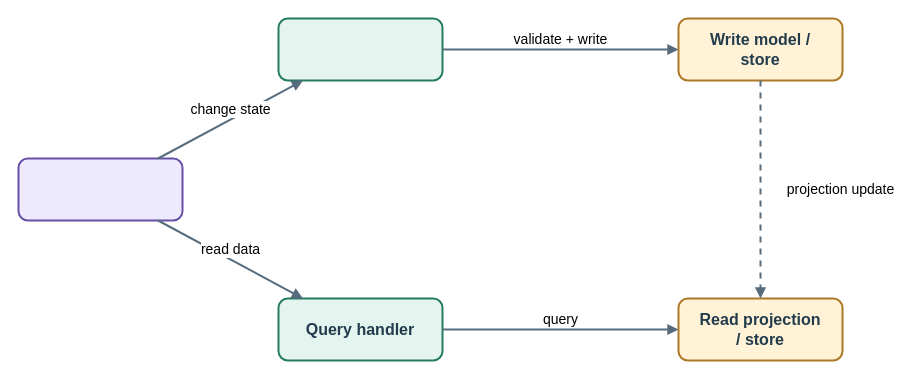
The diagram is 911 pixels wide and 378 high, and some of its shapes have lost their labels. Each missing label, with the box of its shape:
Command handler: (277, 17, 443, 81)
user interface / client: (17, 157, 183, 221)
